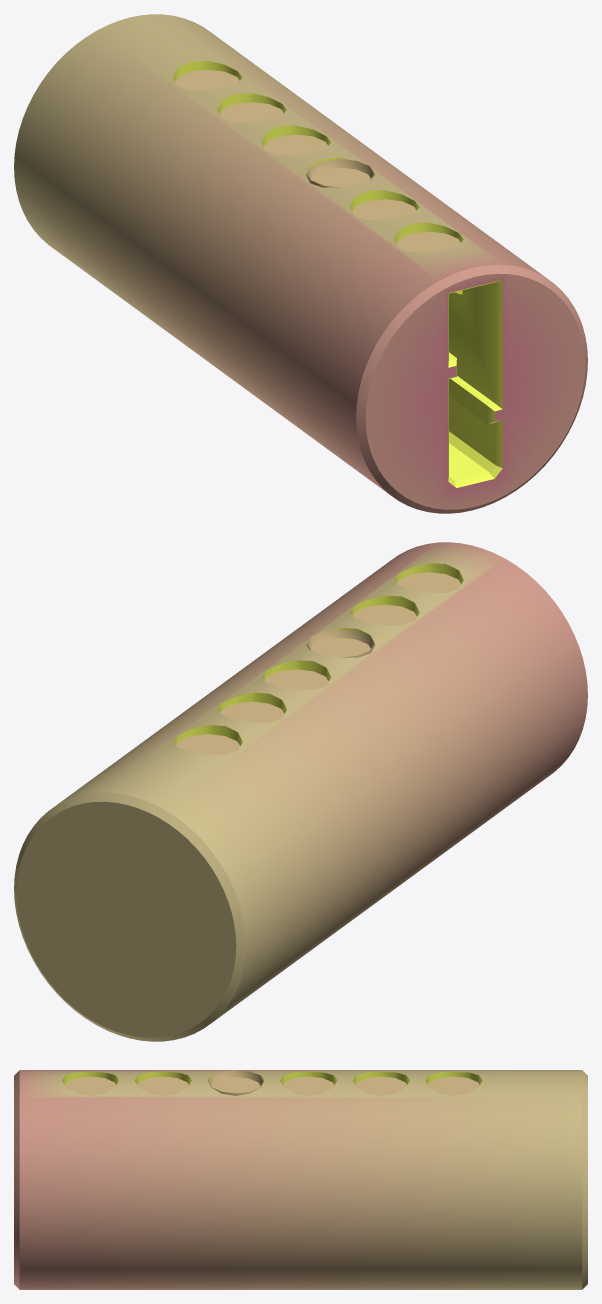
The model's file is Kit_Lock_Plug.fbx.
3 views of the same model, one above another, from view 1: azimuth 30°, elevation 25°; view 2: azimuth 150°, elevation 25°; view 3: azimuth 270°, elevation 25° (orthographic). The views are drawn at different scales.
Parts seen in each view (by area): view 1: Kit_Lock_Plug_LOD0; view 2: Kit_Lock_Plug_LOD0; view 3: Kit_Lock_Plug_LOD0.
Boxes of the visible parts, bbox=[...] form: Kit_Lock_Plug_LOD0: bbox=[14, 14, 587, 513]; Kit_Lock_Plug_LOD0: bbox=[14, 542, 587, 1041]; Kit_Lock_Plug_LOD0: bbox=[14, 1070, 587, 1289].
Size of what is drawn, in the model's own units: 0.0115 by 0.0115 by 0.03.
